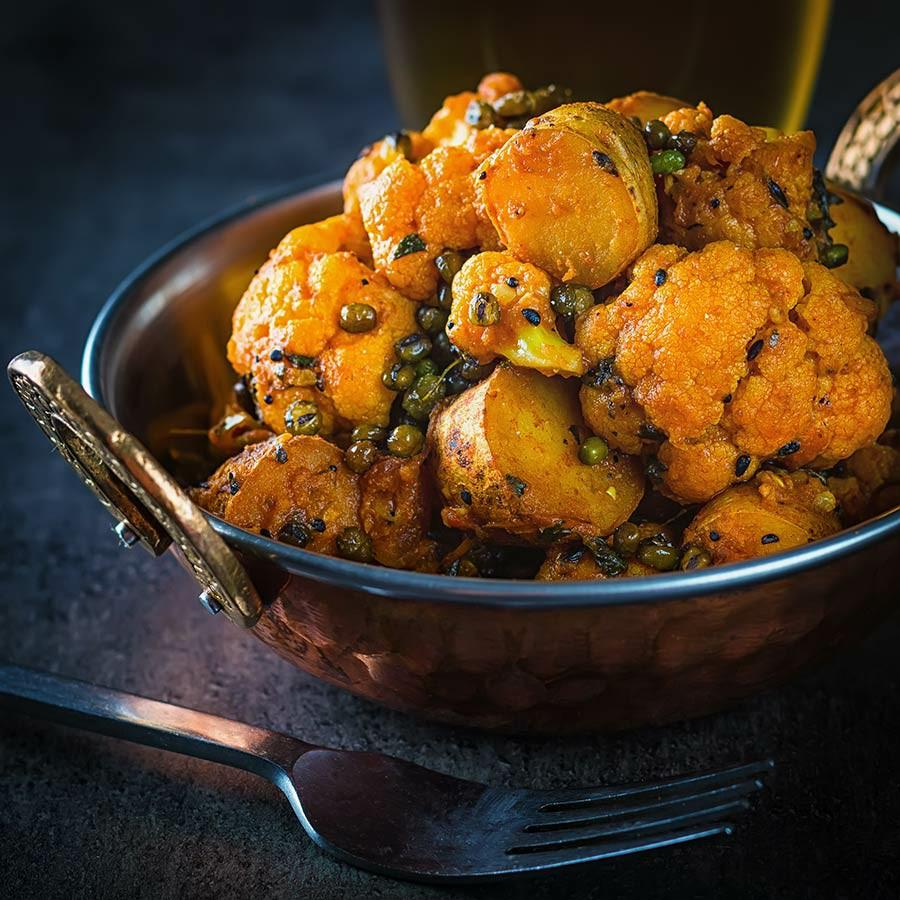AlooGobi: (189, 70, 900, 582)
